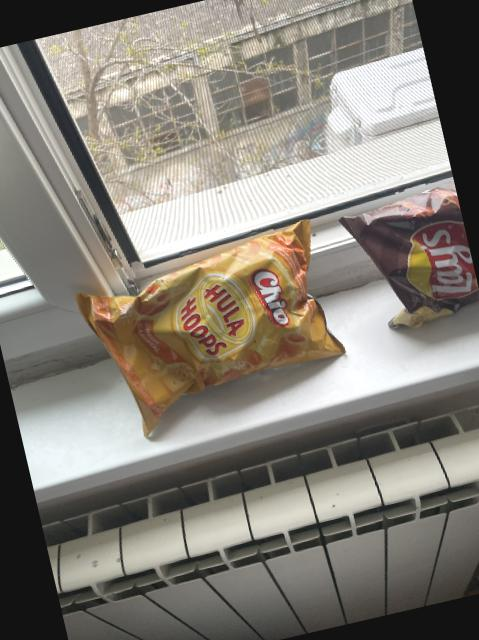Chio Hula Hoops Cheese 70g: (70, 218, 346, 442)
Lays Beef Grilled Ribs 125g: (337, 179, 479, 336)
